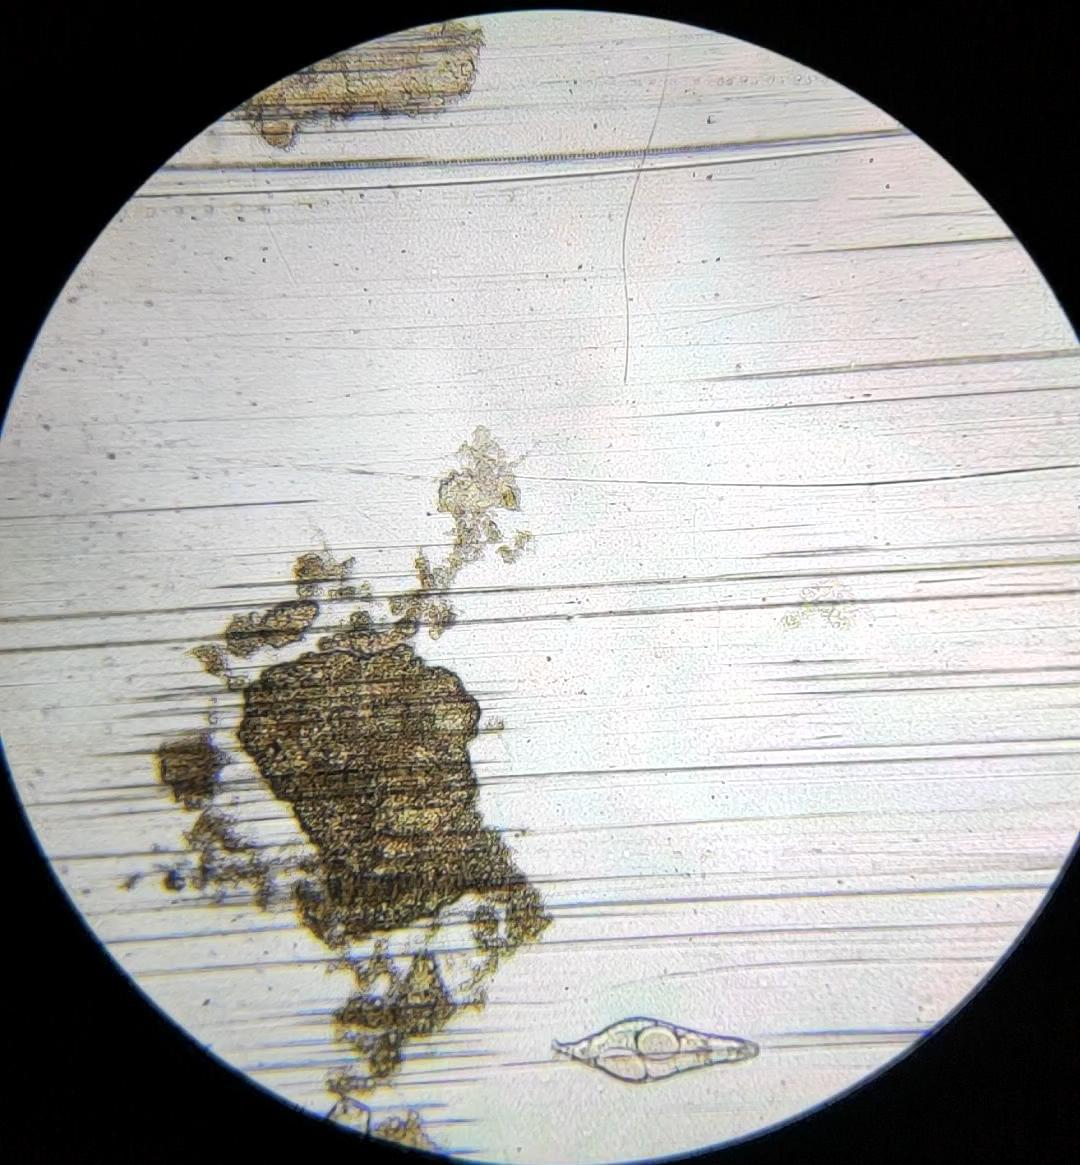Do: (548, 1017, 759, 1083)
